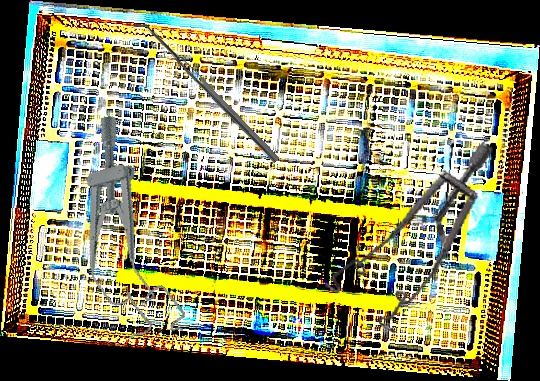Spatula Surgical: (131, 15, 280, 169)
Speculum: (316, 115, 496, 348), (53, 110, 189, 350)
